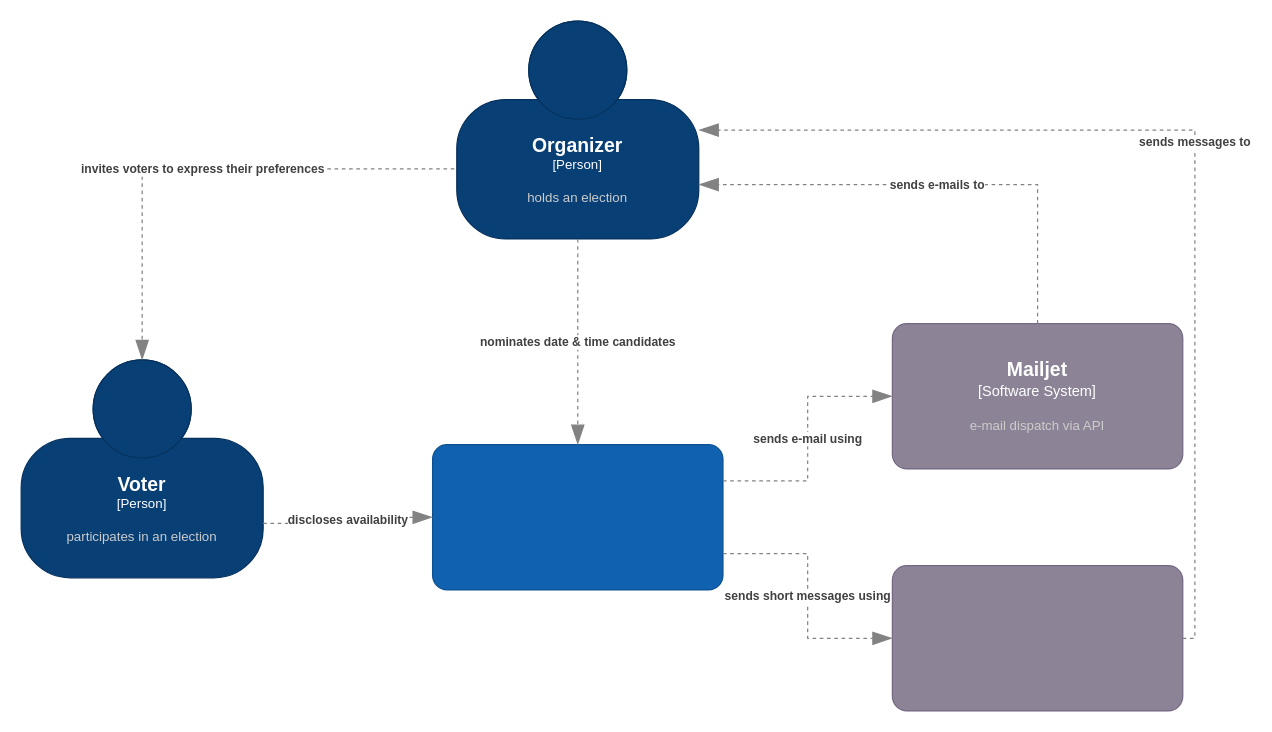
This 1272x732 diagram has some shape labels left out. The centre of each missing label's shape, as x and y in pixels:
"Fixdat [Software System] allows users to schedule events" goes at [577,516].
"Threema [Software System] message dispatch via API" goes at [1037,637].
